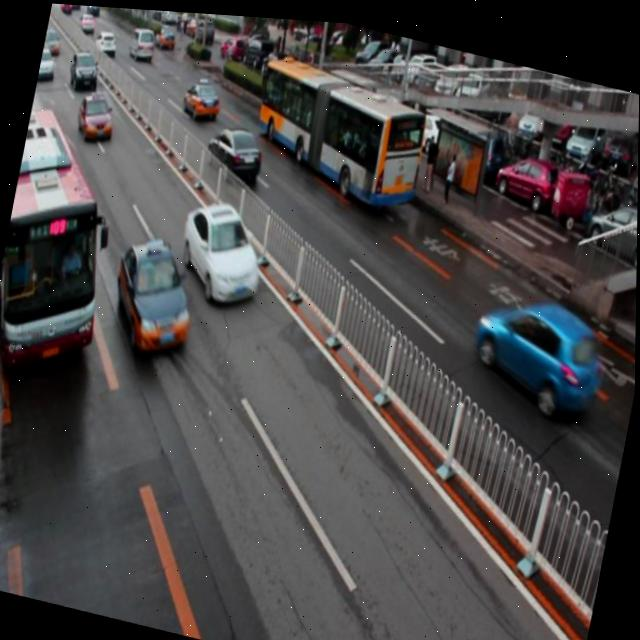car: (462, 282, 612, 421), (105, 228, 206, 362), (172, 193, 272, 312), (203, 115, 267, 182), (74, 85, 120, 146), (180, 71, 224, 122)
van: (0, 103, 133, 386), (245, 46, 436, 215)
